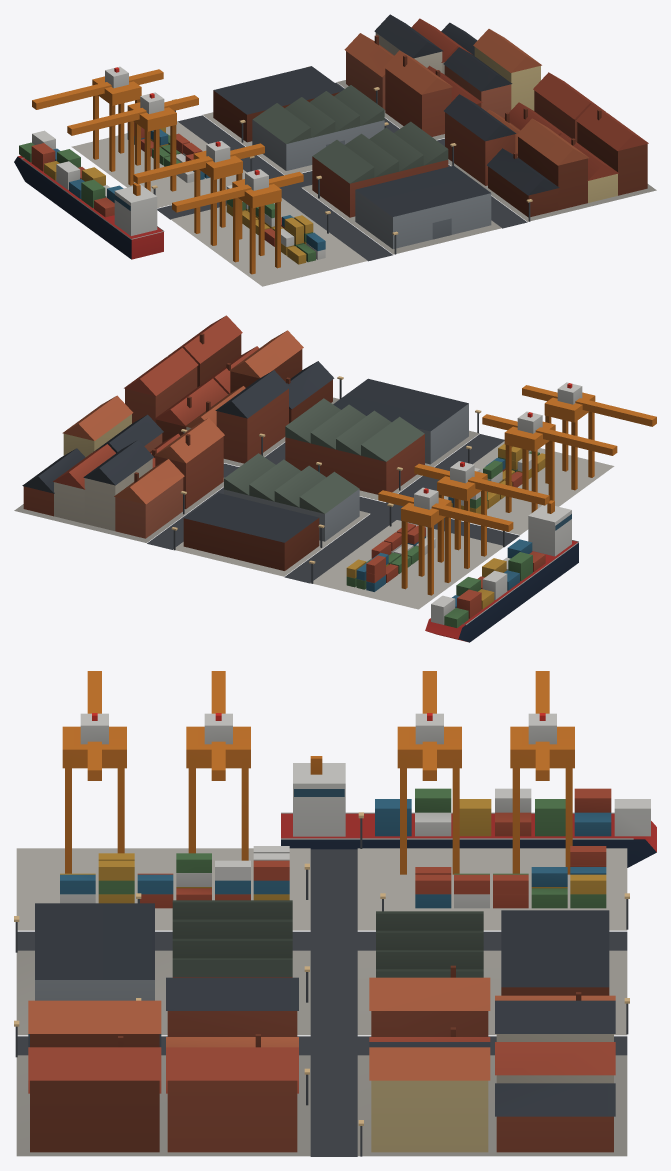
File: district_old_harbor.fbx
3 renders of one model, top to bottom at view 1: azimuth 30°, elevation 25°; view 2: azimuth 150°, elevation 25°; view 3: azimuth 270°, elevation 25°, orthographic. The views are drawn at different scales.
Parts seen in each view (by area): view 1: district_old_harbor; view 2: district_old_harbor; view 3: district_old_harbor.
Part boxes in pixels (x1,y1,x2,y2): district_old_harbor: (14,14,656,286); district_old_harbor: (14,315,656,642); district_old_harbor: (14,671,656,1156).
Size of the model in its own units: 145 by 34.55 by 109.
